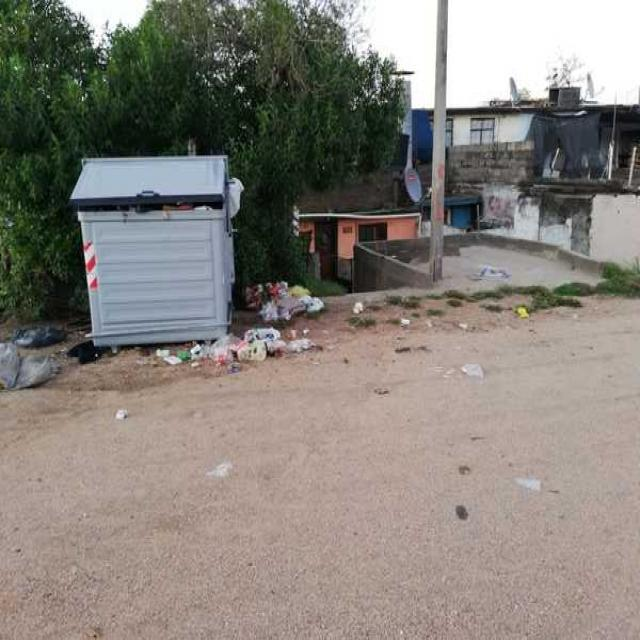garbage: (238, 270, 354, 361), (122, 332, 245, 376), (0, 316, 62, 392), (68, 328, 102, 372), (452, 352, 486, 389), (480, 253, 507, 287), (390, 308, 417, 336), (508, 304, 534, 320)
